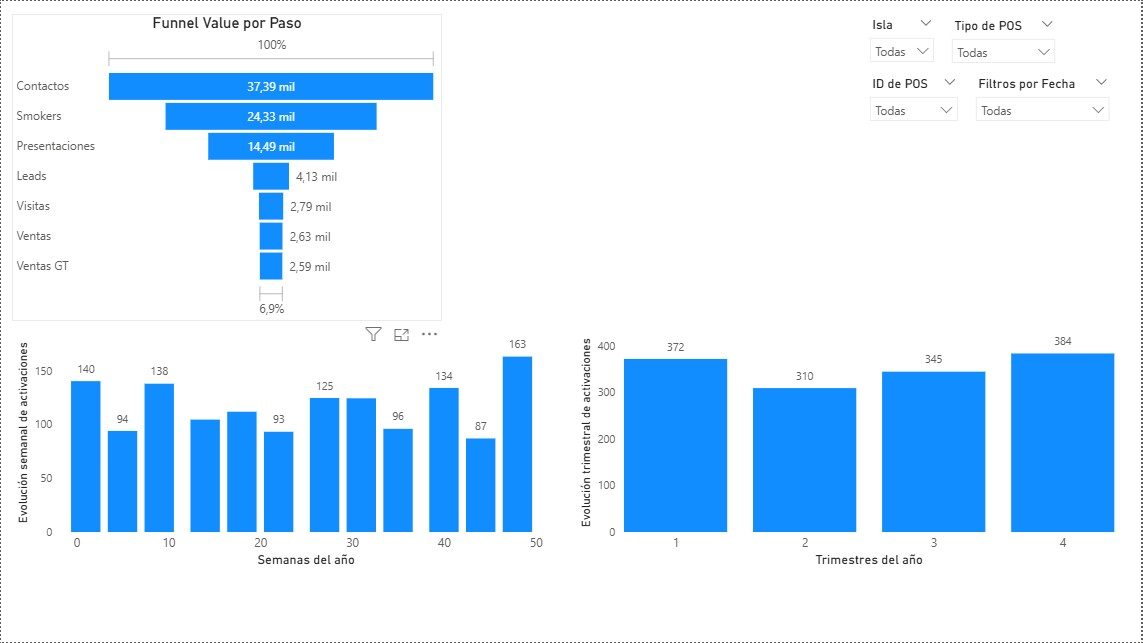

The dashboard page shown, as its layout file describes it:
{"tool":"powerbi","page":{"name":"Ejercicio 1 - Funnel","canvas":[1280,720],"ordinal":1},"visuals":[{"type":"slicer","fields":{"Values":["FACT_Operativa.Island"]},"box":[966.3,14,91.9,61.6],"z":9000},{"type":"slicer","fields":{"Values":["FACT_Operativa.POS TYPE"]},"box":[1058.1,15.1,136,60.5],"z":10000},{"type":"slicer","fields":{"Values":["FACT_Operativa.POS_ID"]},"box":[966.3,80.2,118.6,64],"z":11000},{"type":"slicer","fields":{"Values":["FACT_Operativa.Date.Variación.Jerarquía de fechas.Trimestre","FACT_Operativa.Date.Variación.Jerarquía de fechas.Mes","FACT_Operativa.WeekOfYear"]},"box":[1085.6,80,170,72.2],"z":12000},{"type":"funnel","fields":{"Y":["FunnelSteps.Funnel Value"],"Category":["FunnelSteps.Paso"]},"box":[12.2,14.4,483.3,345.6],"z":13000},{"type":"columnChart","fields":{"Y":["FACT_Operativa.Activaciones_Total"],"Category":["FACT_Operativa.WeekOfYear"]},"box":[12.2,360,611.1,281.1],"z":13001},{"type":"columnChart","fields":{"Y":["FACT_Operativa.Activaciones_Total"],"Category":["FACT_Operativa.Quarter"]},"box":[644.4,360,611.1,281.1],"z":13002}]}

Visuals, with their boxes in screenshot pixels (x1, y1, x2, y2), scaled from the page's 1280x720 canvas onto the 1143x643 screenshot:
slicer - FACT_Operativa.Island: box=[863, 13, 945, 68]
slicer - FACT_Operativa.POS TYPE: box=[945, 13, 1066, 68]
slicer - FACT_Operativa.POS_ID: box=[863, 72, 969, 129]
slicer - FACT_Operativa.Date.Variación.Jerarquía de fechas.Trimestre x FACT_Operativa.Date.Variación.Jerarquía de fechas.Mes: box=[969, 71, 1121, 136]
funnel - FunnelSteps.Funnel Value x FunnelSteps.Paso: box=[11, 13, 442, 322]
columnChart - FACT_Operativa.Activaciones_Total x FACT_Operativa.WeekOfYear: box=[11, 322, 557, 573]
columnChart - FACT_Operativa.Activaciones_Total x FACT_Operativa.Quarter: box=[575, 322, 1121, 573]
